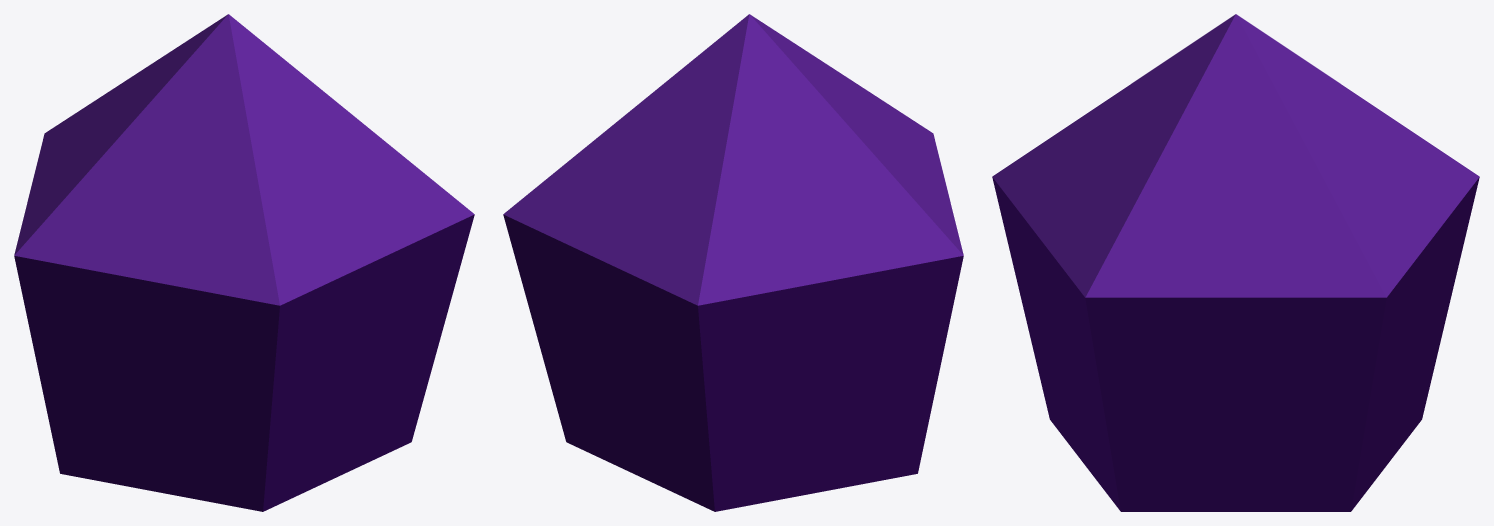
File: badspawner.dae
3 renders of one model, left to right at view 1: azimuth 30°, elevation 25°; view 2: azimuth 150°, elevation 25°; view 3: azimuth 270°, elevation 25°, orthographic. The views are drawn at different scales.
Visible parts, largest first — view 1: SketchUp (×2); view 2: SketchUp (×2); view 3: SketchUp (×2).
Boxes of the visible parts, bbox=[...] form: SketchUp (×2): bbox=[14, 14, 474, 511]; SketchUp (×2): bbox=[503, 14, 963, 511]; SketchUp (×2): bbox=[992, 14, 1479, 511].
Size of the model in its own units: 15.06 by 15.83 by 15.53.
